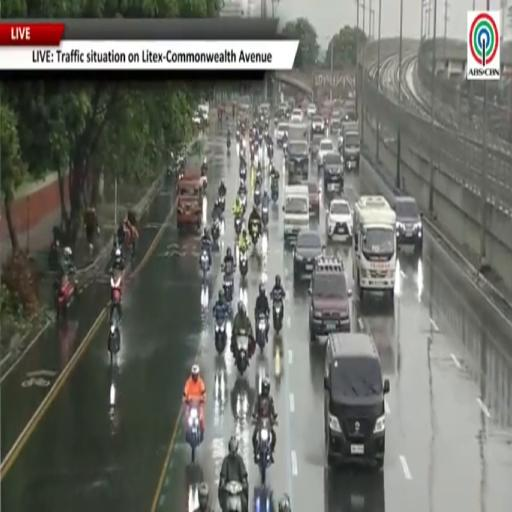car: (324, 333, 389, 469), (309, 259, 351, 342), (394, 197, 423, 253), (294, 229, 323, 279), (326, 199, 353, 239), (286, 141, 309, 179), (324, 153, 344, 193), (318, 138, 335, 169), (308, 183, 320, 216), (276, 122, 288, 146), (311, 134, 323, 157), (198, 102, 209, 126), (311, 115, 324, 135), (330, 115, 341, 135), (290, 108, 303, 122), (192, 110, 202, 126), (307, 103, 317, 117)
motorcycle: (186, 404, 201, 463), (56, 275, 77, 317), (258, 419, 271, 485), (224, 482, 244, 511), (108, 317, 120, 364), (236, 332, 249, 375), (215, 315, 226, 355), (111, 274, 121, 317), (256, 313, 267, 351), (48, 240, 61, 270), (273, 297, 283, 333), (222, 273, 234, 303), (201, 249, 209, 282), (251, 222, 260, 247), (239, 251, 247, 278), (212, 218, 220, 243), (262, 204, 270, 228), (271, 179, 278, 203), (254, 185, 261, 205), (240, 192, 247, 212), (235, 217, 242, 236), (240, 165, 247, 181), (249, 145, 255, 163), (219, 196, 225, 212), (267, 144, 273, 159), (282, 140, 288, 154), (227, 138, 230, 153), (236, 131, 240, 141)
truck: (353, 196, 396, 303), (177, 167, 205, 230), (283, 185, 309, 244), (286, 123, 310, 183), (341, 122, 360, 170)
